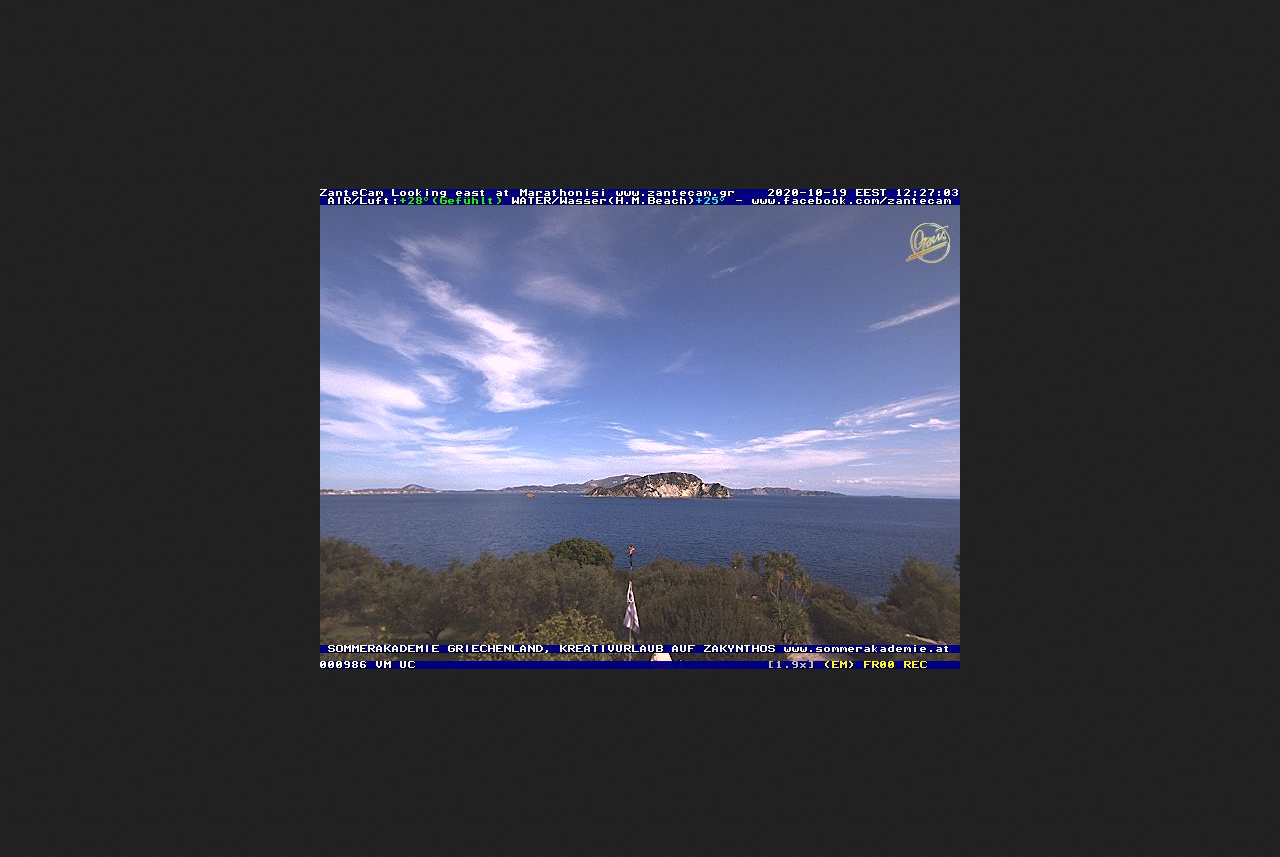no: (622, 575, 641, 636)
